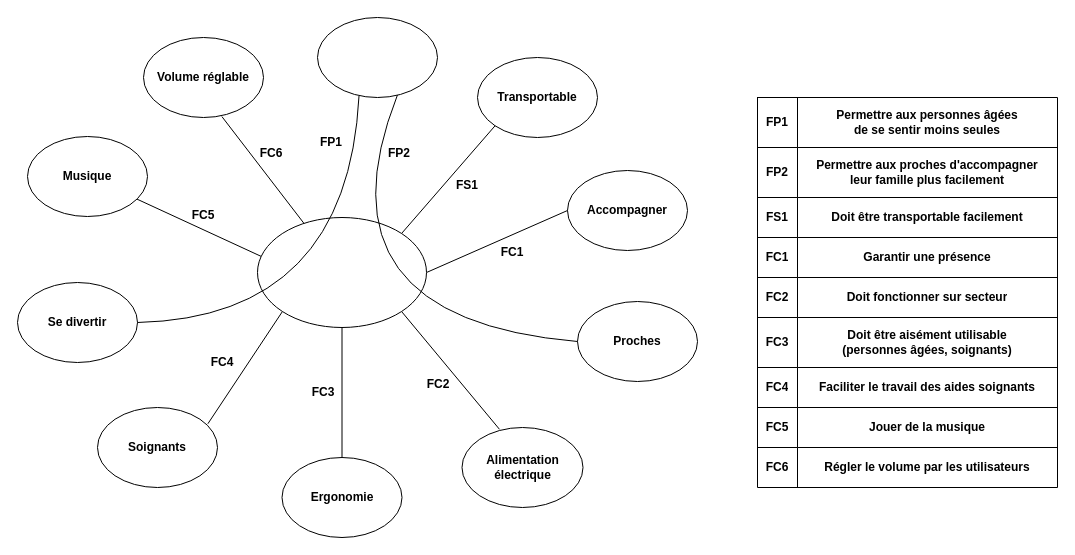
The diagram is 1075 pixels wide and 555 high, and some of its shapes have lost their labels. Here are the shapes that lost their labels. From the top down, the centre of each, then its label:
At point (377, 57): "Personnes âgées".
At point (341, 272): "Jukebox".
